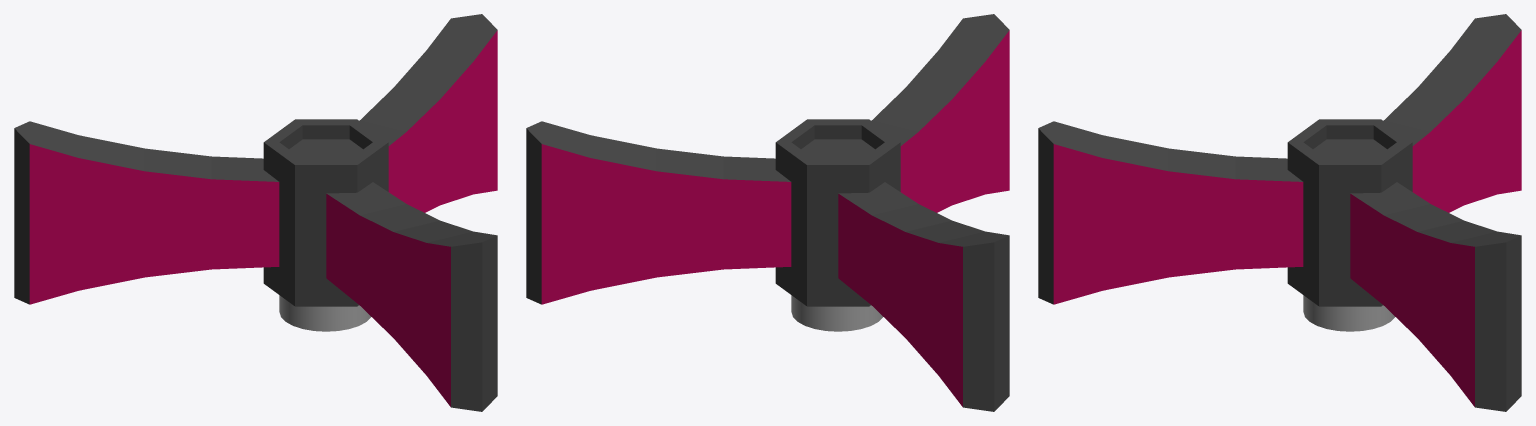
File: Spinner_2.fbx
3 views of the same model, side by side, from view 1: azimuth 30°, elevation 25°; view 2: azimuth 150°, elevation 25°; view 3: azimuth 270°, elevation 25° (orthographic).
Visible parts, largest first — view 1: Spinner_2; view 2: Spinner_2; view 3: Spinner_2.
Part boxes in pixels (x1,y1,x2,y2): Spinner_2: (14, 14, 497, 411); Spinner_2: (526, 14, 1009, 411); Spinner_2: (1038, 14, 1521, 411).
Size of the model in its own units: 17.32 by 6.5 by 15.5.
